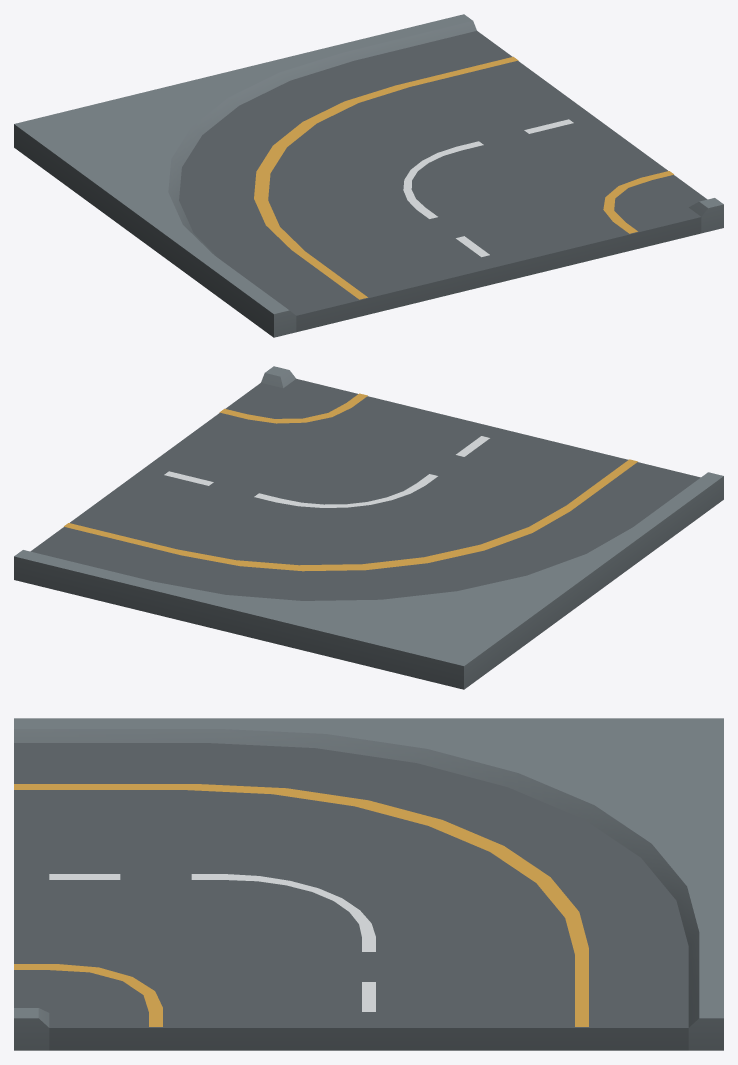
File: road_corner_curved.glb
The picture shows the model from 3 angles, top to bottom: view 1: azimuth 30°, elevation 25°; view 2: azimuth 150°, elevation 25°; view 3: azimuth 270°, elevation 25°; orthographic projection. The views are drawn at different scales.
Parts seen in each view (by area): view 1: road_corner_curved; view 2: road_corner_curved; view 3: road_corner_curved.
Boxes of the visible parts, bbox=[...] form: road_corner_curved: bbox=[14, 14, 723, 337]; road_corner_curved: bbox=[14, 366, 723, 689]; road_corner_curved: bbox=[14, 718, 723, 1050].
Bounding box in the file's own units: 2 × 0.1 × 2.
Materials: 1 (1 with a texture image).
